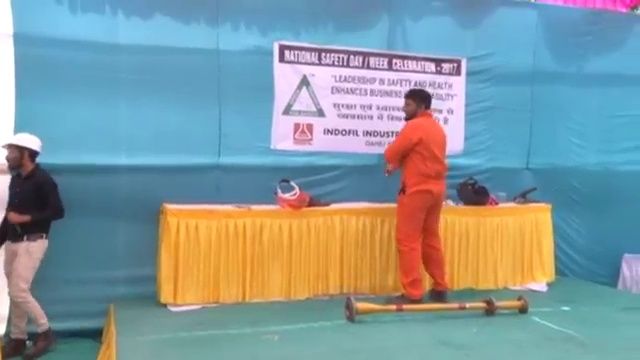helmet: (1, 130, 43, 155)
helmet_off: (402, 88, 432, 121)
helmet_on: (1, 129, 42, 173)
person: (1, 132, 66, 360), (388, 87, 455, 305)
